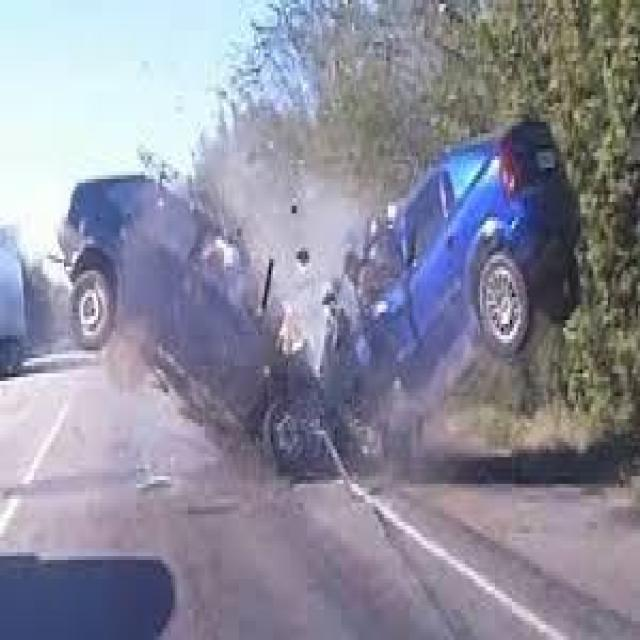severe: (52, 103, 584, 484)
